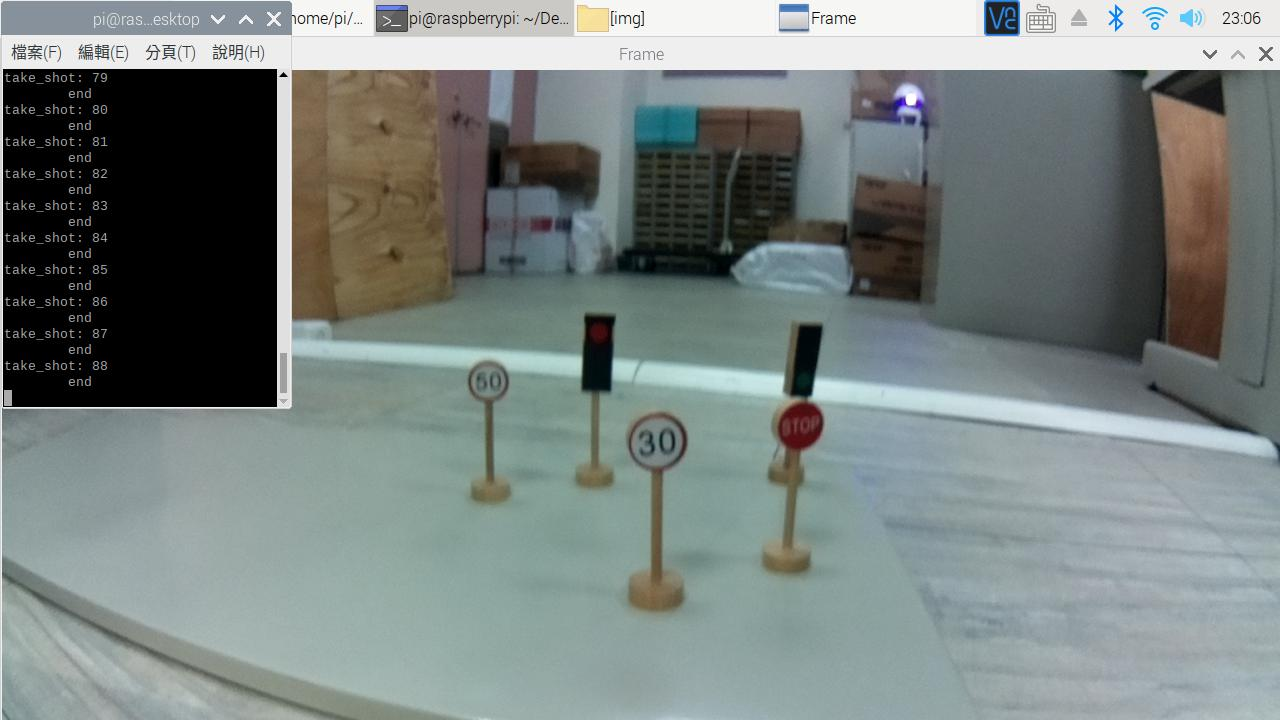Green: (782, 312, 832, 407)
Red: (570, 306, 625, 402)
Speed30: (624, 408, 692, 475)
Speed50: (466, 358, 514, 408)
Stop: (768, 403, 835, 456)
